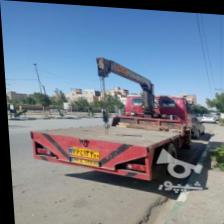plate: (66, 144, 98, 157), (68, 157, 98, 165)
